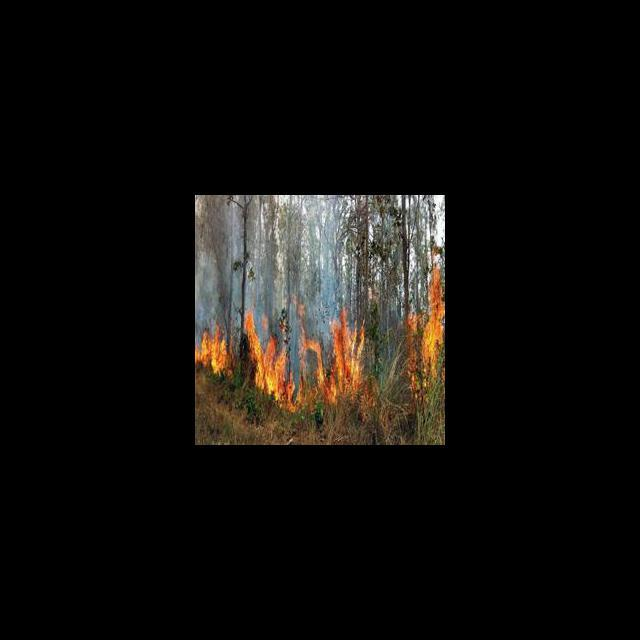Fire: (196, 297, 380, 413), (408, 264, 444, 396)
